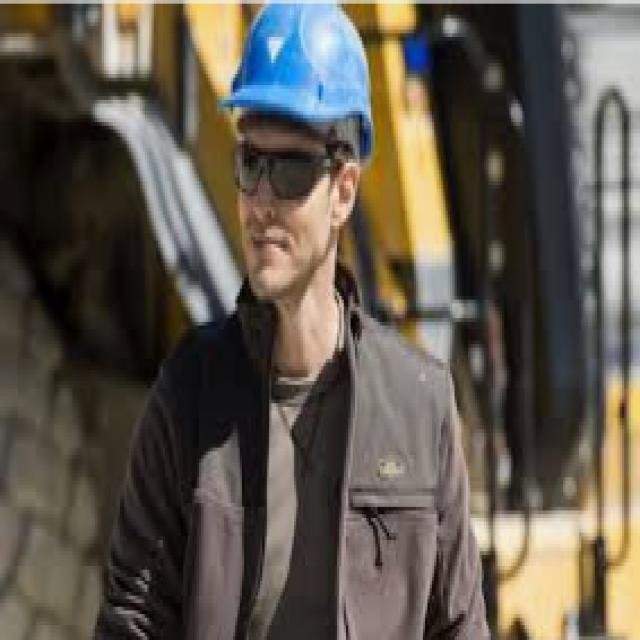glasses: (232, 134, 351, 208)
